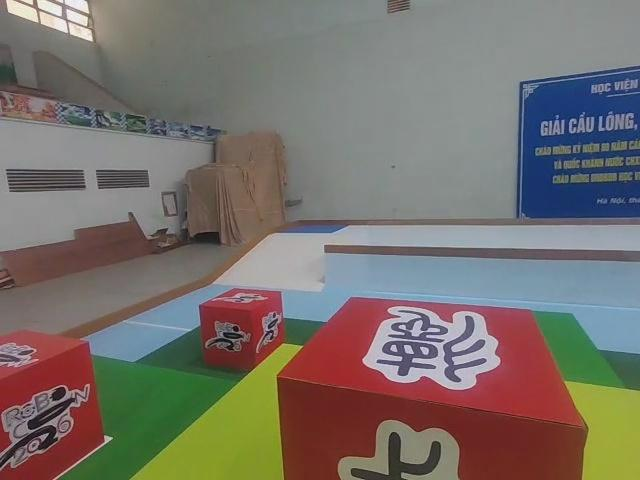R1: (0, 325, 108, 480), (196, 284, 289, 375)
R2 Fake: (275, 293, 590, 480)
